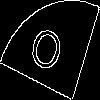O: (24, 25, 66, 82)
